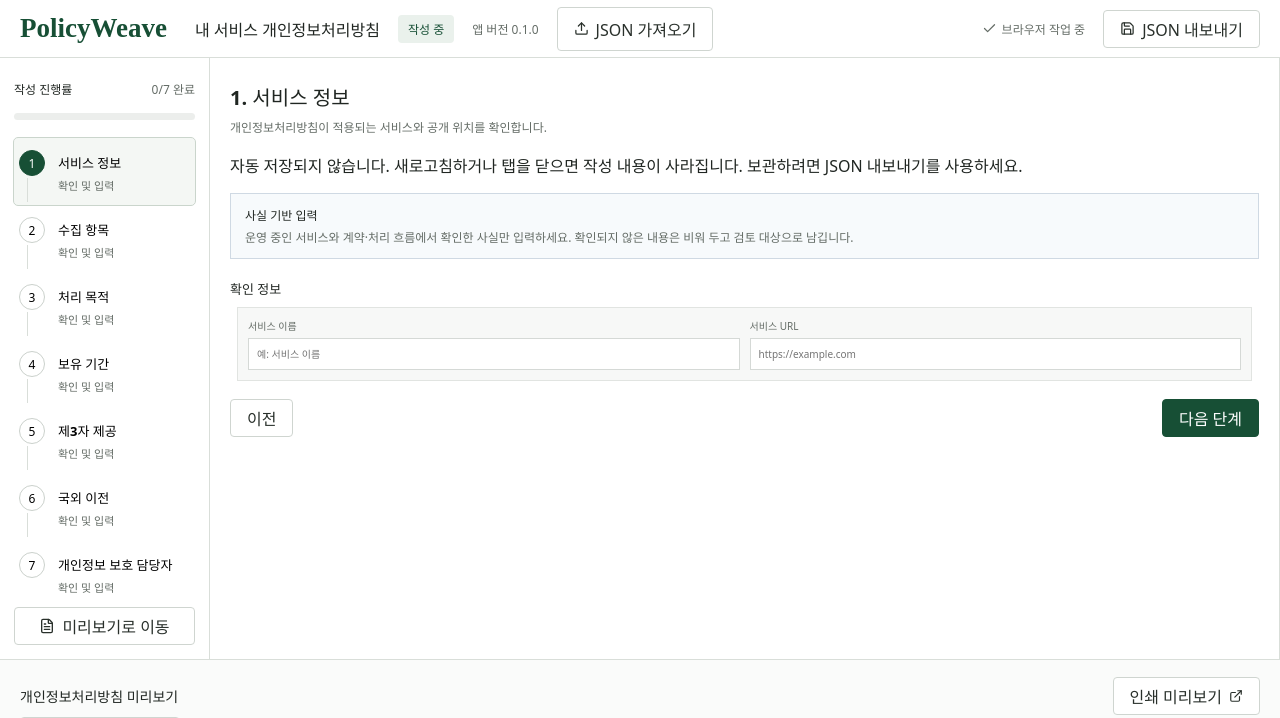
Test: explicit no-collection attestation › does not infer retention from no-collection and accepts a separate explicit no-retention fact
Click the button "2 수집 항목 확인 및 입력".
click(104, 238)  # box [14,205,195,272]
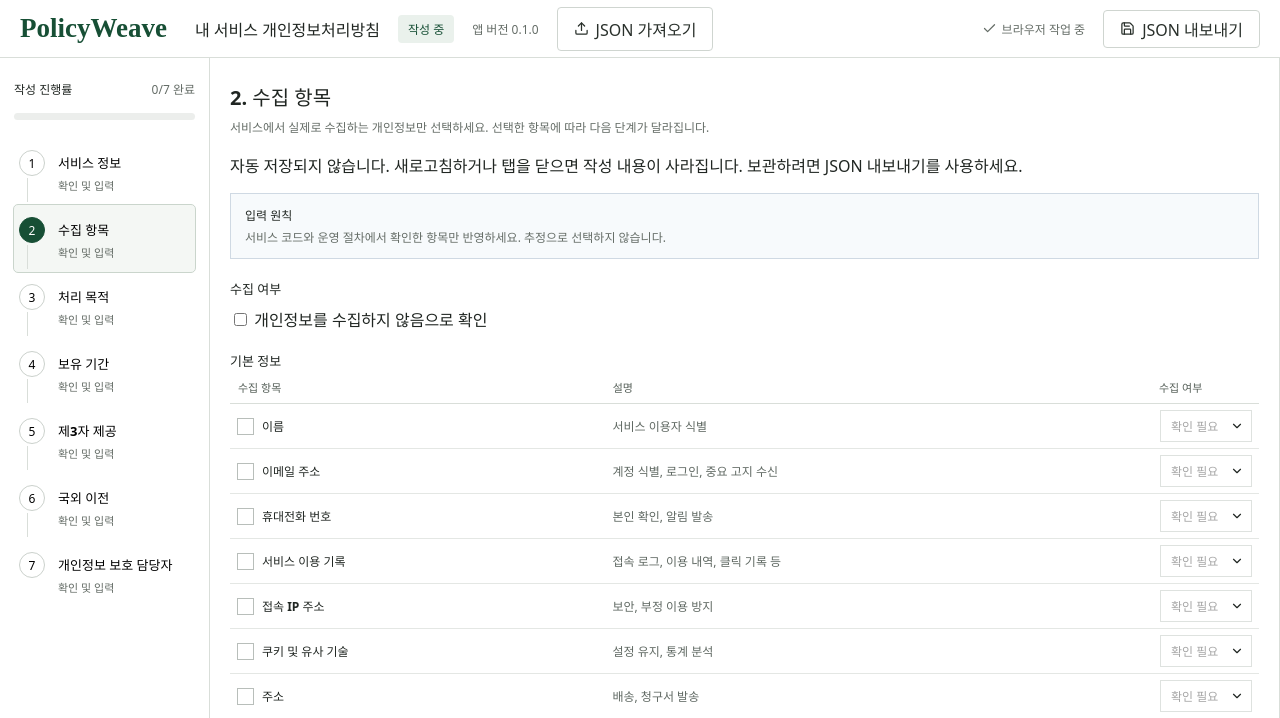
Click the checkbox named "noCollectionAttested".
click(240, 320)  # box [234,313,247,326]
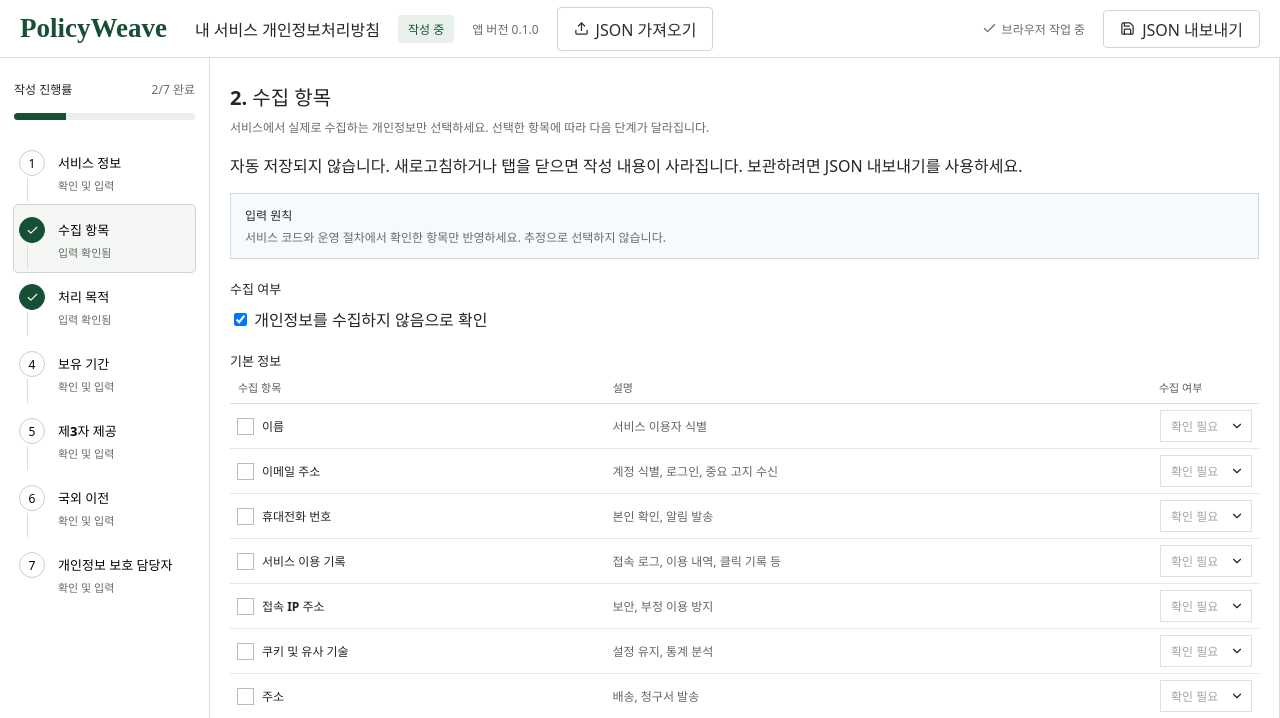
Click the button "4 보유 기간 확인 및 입력".
click(104, 372)  # box [14,339,195,406]
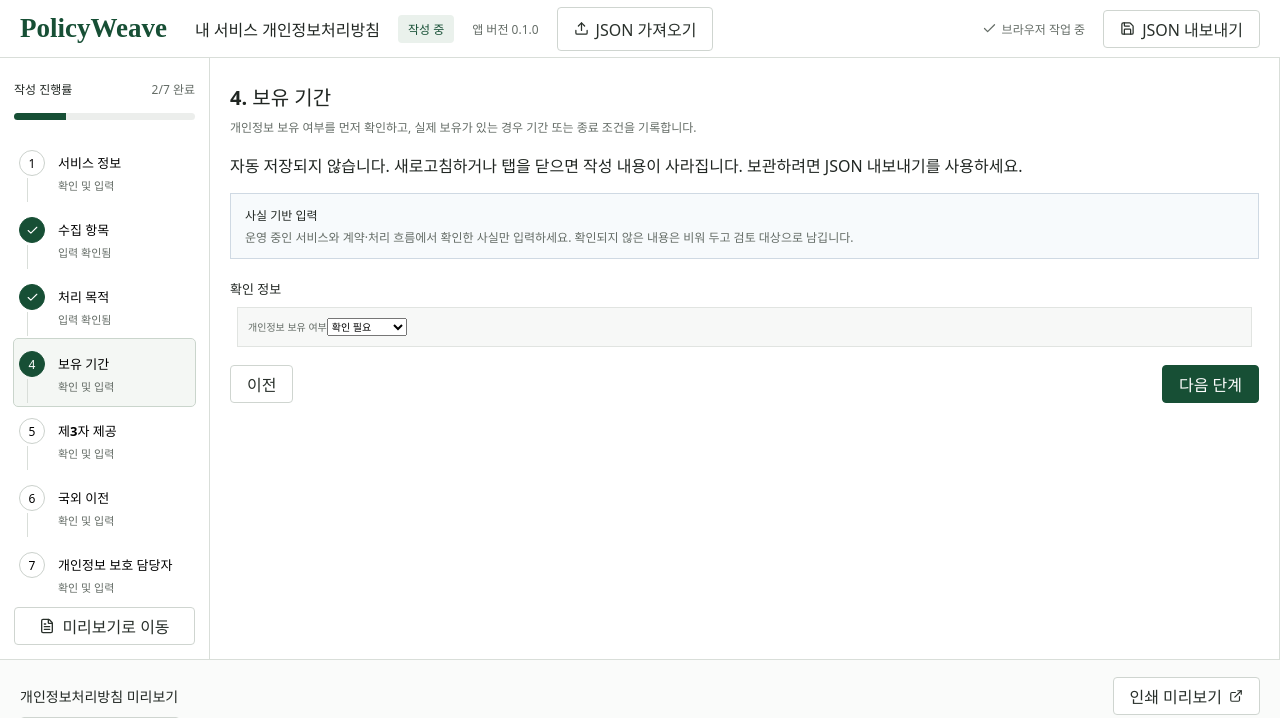
Select "보유하지 않음" in the dropdown named "retentionStatus" at {"x": 367, "y": 327}, box [327,318,407,336]
(page scrolled)
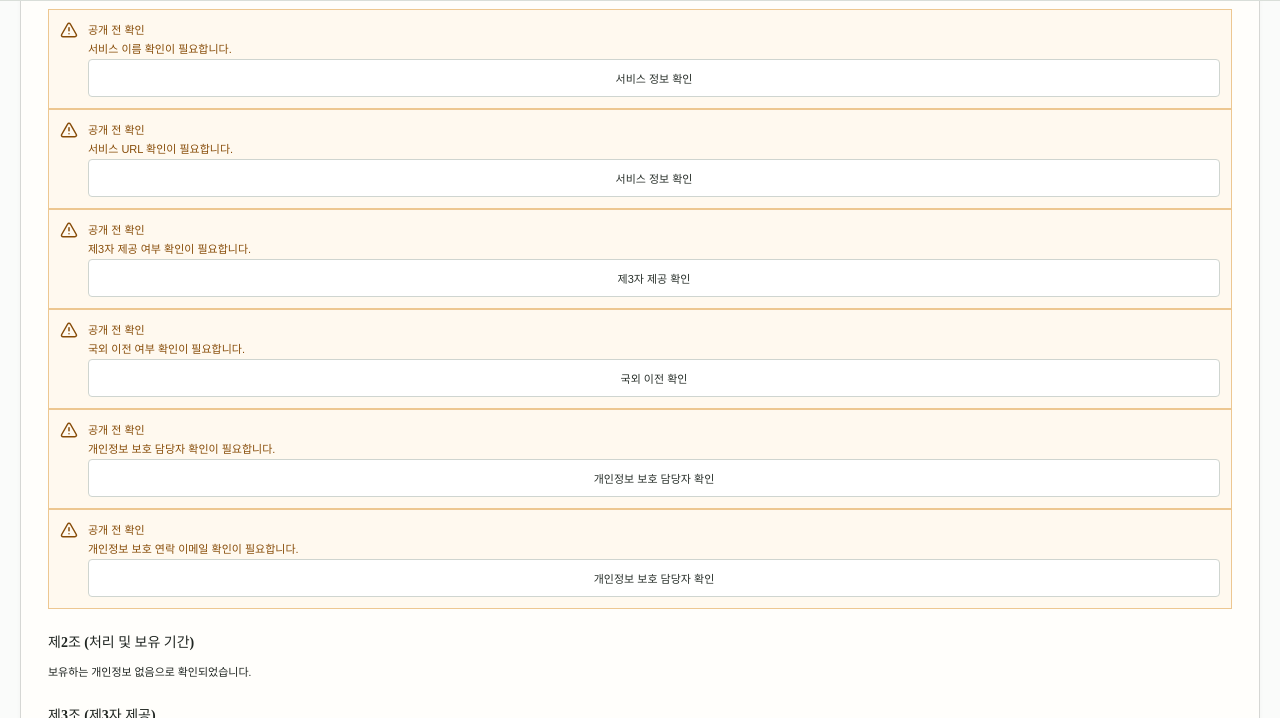
Now the element that starts with "개인정보처리방침" shows "보유하는 개인정보 없음으로 확인되었습니다.", box [48,666,251,678]
